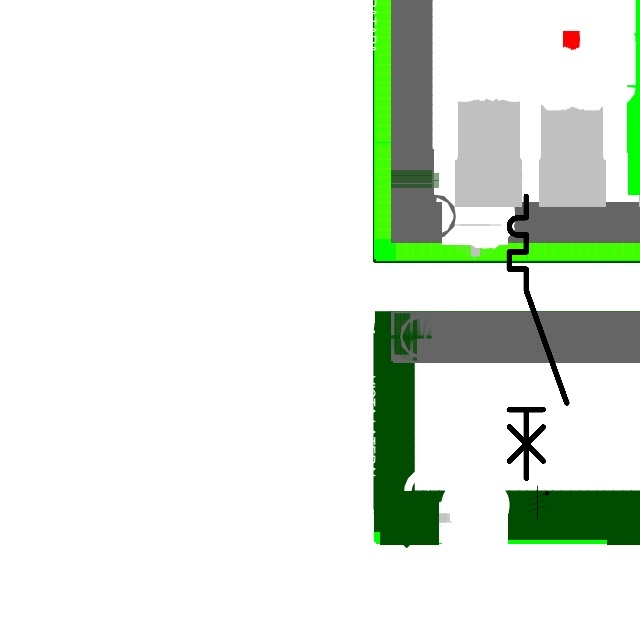interruptor_termomagnetico: (502, 189, 574, 485)
